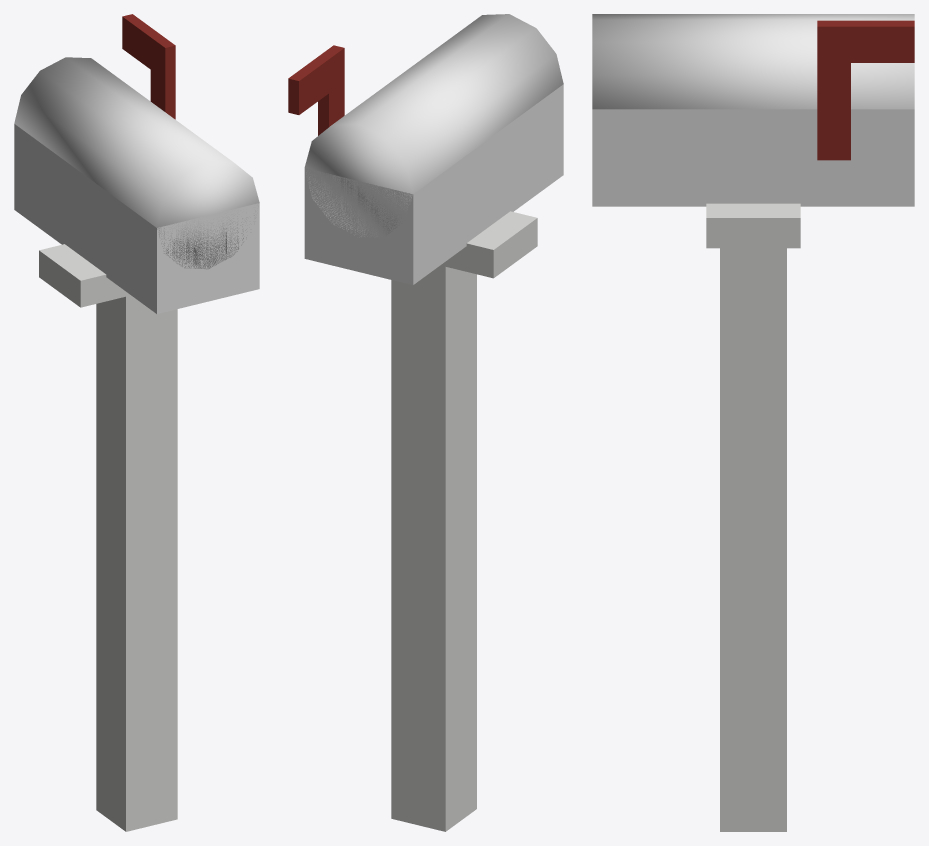
Rendered from grammy_mailbox.glb.
3 views of the same model, side by side, from view 1: azimuth 30°, elevation 25°; view 2: azimuth 150°, elevation 25°; view 3: azimuth 270°, elevation 25° (orthographic). The views are drawn at different scales.
Visible parts, largest first — view 1: post.024, box.001, box, flag.002; view 2: post.024, box.001, box, flag.002; view 3: post.024, box, box.001, flag.002.
Part boxes in pixels (x1,y1,x2,y2): post.024: [39, 244, 177, 831]; box.001: [14, 57, 259, 269]; box: [14, 124, 259, 313]; flag.002: [122, 14, 175, 119]; post.024: [391, 211, 537, 831]; box.001: [304, 14, 563, 237]; box: [304, 84, 563, 284]; flag.002: [288, 45, 344, 135]; post.024: [706, 203, 800, 831]; box: [592, 109, 914, 206]; box.001: [592, 14, 914, 109]; flag.002: [817, 20, 914, 160].
Size of the model in its own units: 0.3 by 1.36 by 0.48.
